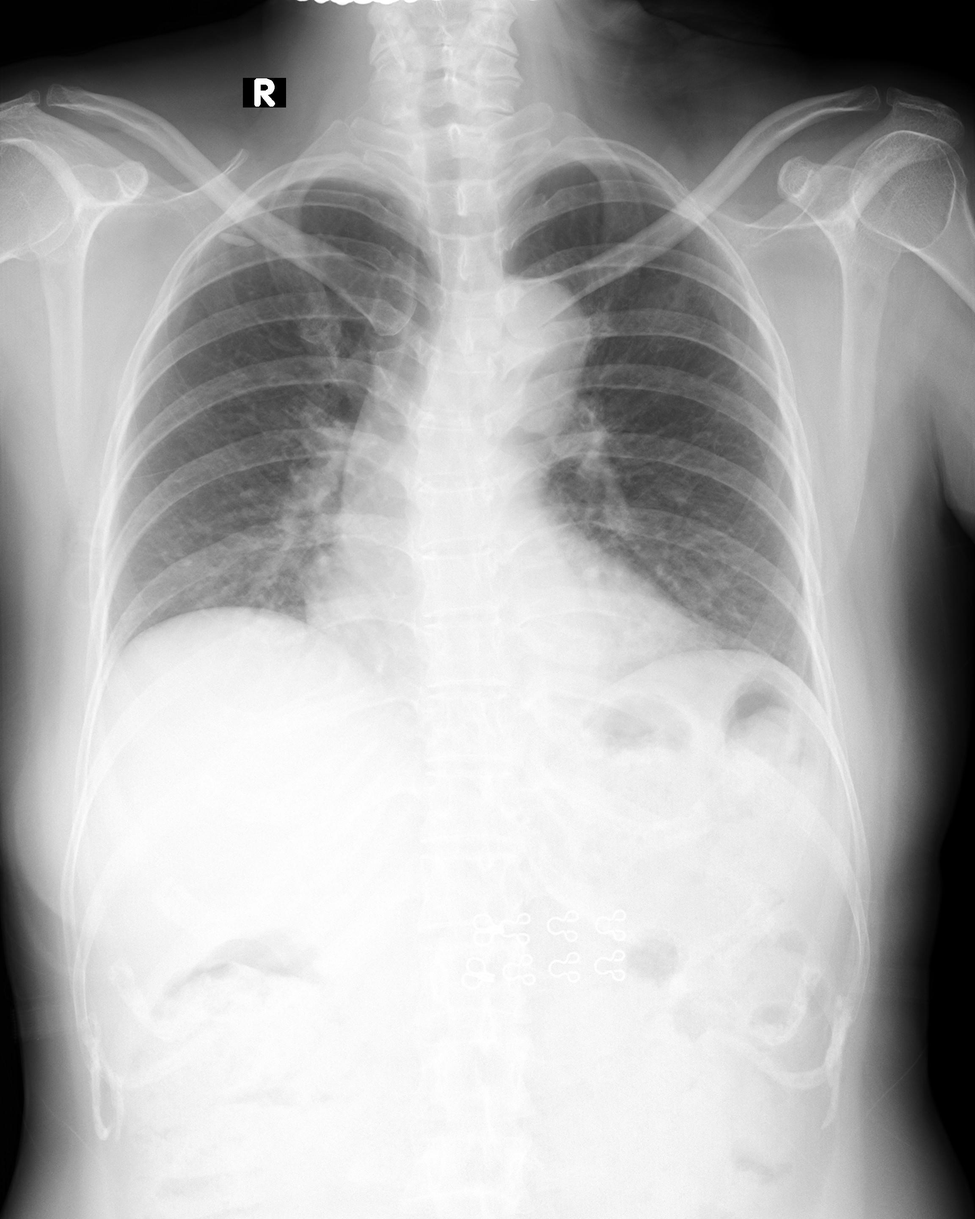Aortic enlargement: (353, 279, 587, 472)
Cardiomegaly: (301, 573, 719, 648)
